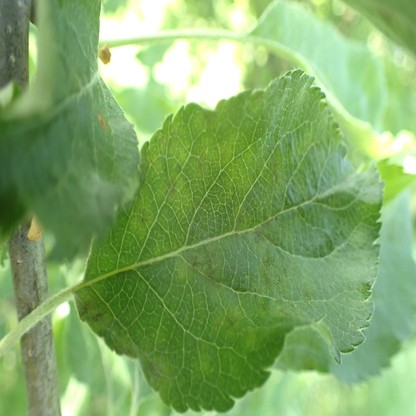frogeye_leaf_spot: (97, 113, 107, 130)
scab: (255, 256, 294, 297), (187, 242, 218, 283), (74, 291, 104, 326), (142, 352, 165, 386), (276, 298, 304, 321), (161, 175, 179, 201), (133, 205, 150, 231), (119, 333, 138, 356), (251, 222, 266, 244), (269, 166, 283, 189), (302, 284, 313, 305)
